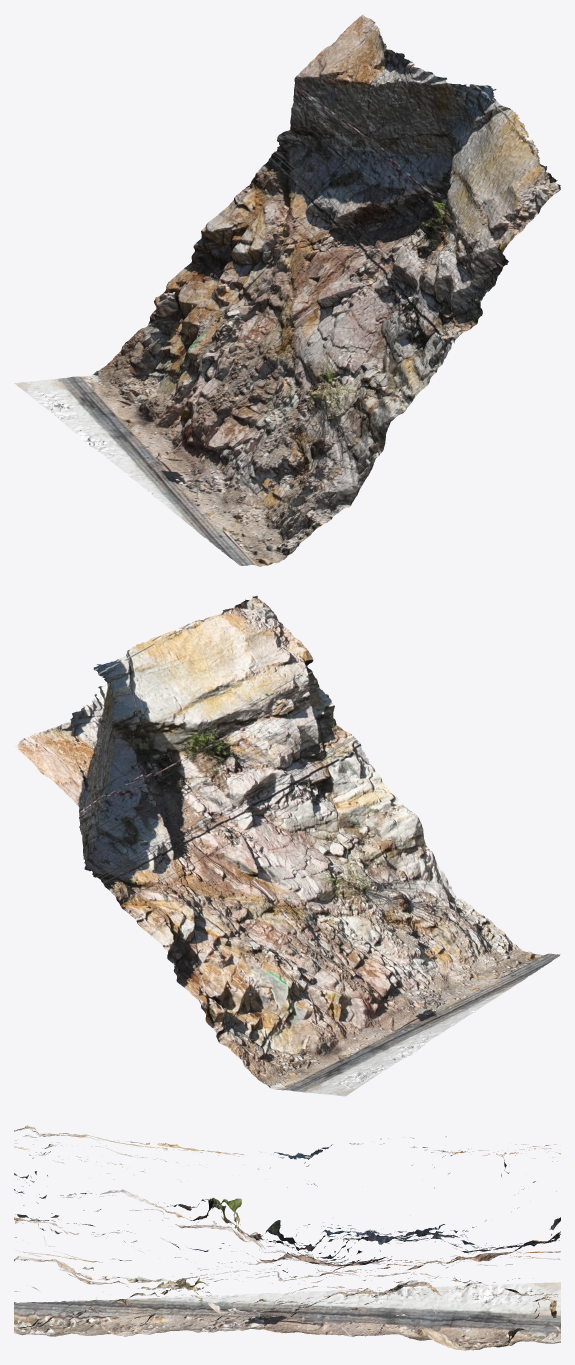
3 views of the same model, one above another, from view 1: azimuth 30°, elevation 25°; view 2: azimuth 150°, elevation 25°; view 3: azimuth 270°, elevation 25° (orthographic). The views are drawn at different scales.
Size of the model in its own units: 7.22 by 5.7 by 7.63.
Materials: 3 (3 with a texture image).
